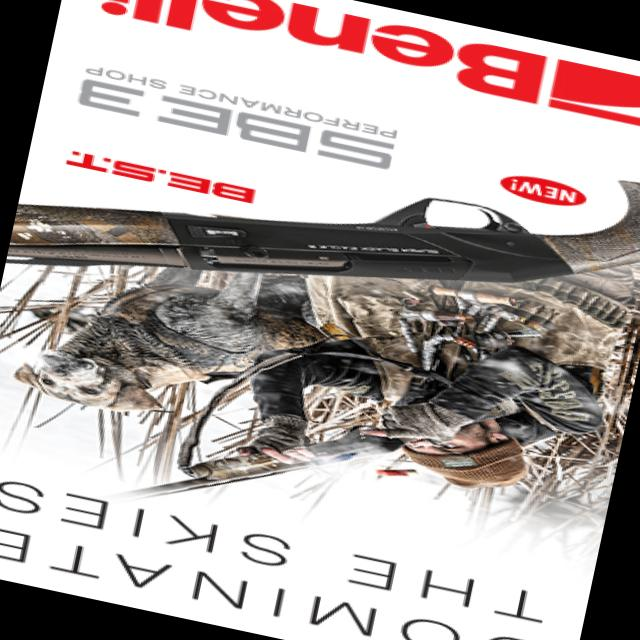Weapon: (6, 49, 640, 400)
